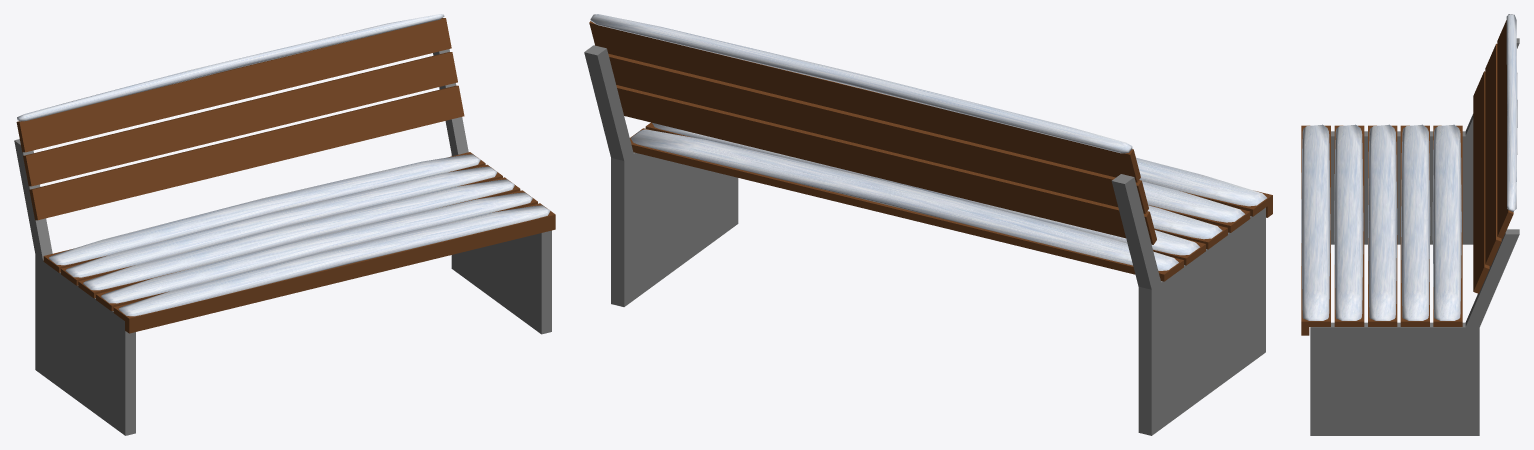
The model's file is Bank Snow.glb.
The picture shows the model from 3 angles, left to right: view 1: azimuth 30°, elevation 25°; view 2: azimuth 150°, elevation 25°; view 3: azimuth 270°, elevation 25°; orthographic projection. The views are drawn at different scales.
Visible parts, largest first — view 1: Cube.064; view 2: Cube.064; view 3: Cube.064.
Boxes of the visible parts, <box> form: Cube.064: <box>14,14,555,435</box>; Cube.064: <box>584,14,1272,435</box>; Cube.064: <box>1301,14,1519,435</box>.
Bounding box in the file's own units: 2.06 × 1.13 × 0.969.
Materials: 3 (1 with a texture image).
